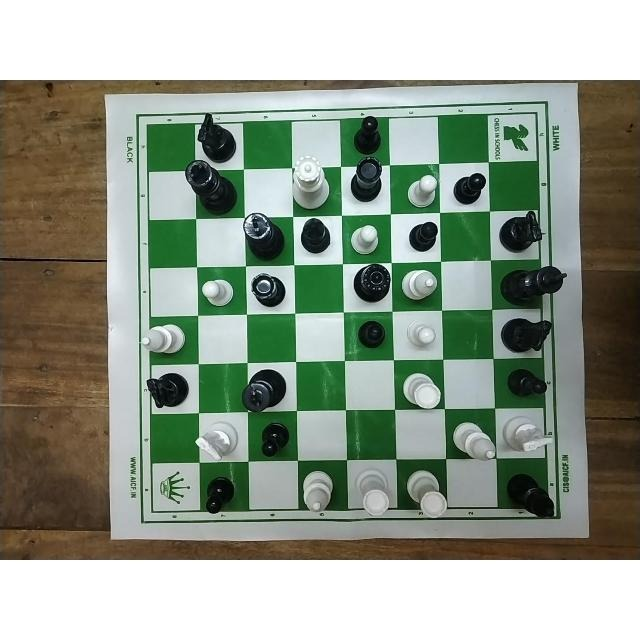black-bishop: (504, 471, 556, 522), (298, 217, 336, 253)
black-king: (181, 158, 236, 215), (494, 265, 570, 304), (234, 366, 288, 413), (242, 212, 286, 260)
black-knight: (193, 111, 237, 161), (496, 211, 544, 253), (500, 316, 551, 355), (142, 371, 190, 409)
black-pawn: (505, 366, 549, 400), (351, 111, 385, 154), (201, 475, 235, 515), (257, 420, 291, 458), (450, 170, 486, 204), (352, 319, 388, 351), (408, 220, 440, 252)
black-queen: (352, 264, 393, 304)
black-rook: (349, 158, 383, 201), (249, 272, 289, 308)
white-bishop: (450, 418, 498, 462), (139, 319, 188, 359), (299, 466, 332, 516), (399, 269, 438, 303)
white-knight: (501, 413, 555, 454), (195, 421, 241, 461)
white-pawn: (202, 274, 238, 308), (405, 174, 439, 210), (347, 221, 381, 256), (402, 319, 437, 351)
white-queen: (291, 150, 332, 210)
white-rook: (405, 468, 447, 519), (350, 468, 391, 520), (404, 371, 444, 409)
